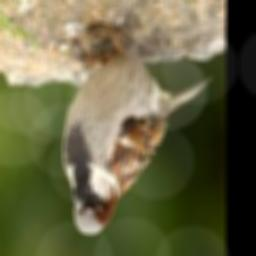Sparrow: (63, 22, 212, 235)
